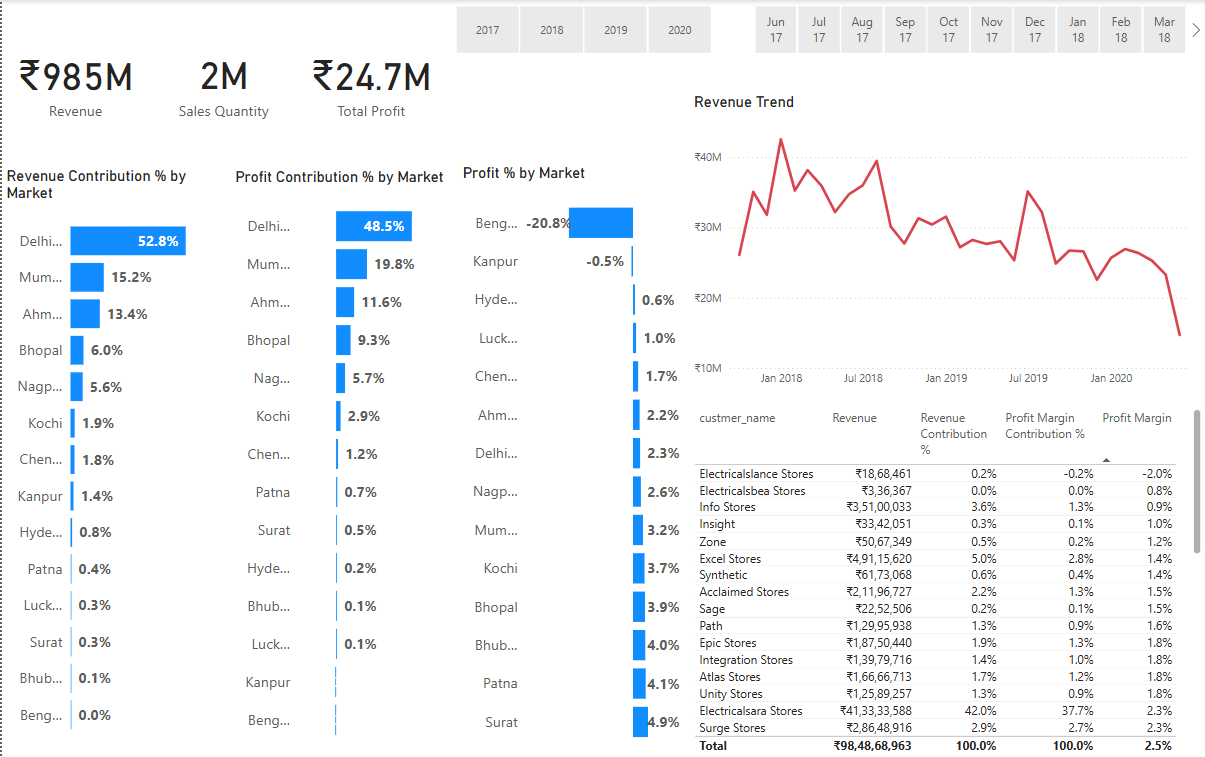

What the dashboard file says about the page in this screenshot:
{"tool":"powerbi","page":{"name":"Profit Analysis","canvas":[1350,850],"ordinal":1},"visuals":[{"type":"card","fields":{"Values":["BaseMeasures (2).Revenue"]},"box":[0,0,165.4,185],"z":0},{"type":"card","fields":{"Values":["BaseMeasures (2).Sales Qty"]},"box":[166.8,0,164,183.6],"z":1000},{"type":"barChart","title":"Profit % by Market","fields":{"Y":["BaseMeasures (2).Profit Margin %"],"Category":["sales markets.markets_name"]},"box":[511.6,183.6,253.7,665.8],"z":2000},{"type":"barChart","title":"Profit Contribution % by Market","fields":{"Y":["BaseMeasures (2).Profit Margin Contribution %"],"Category":["sales markets.markets_name"]},"box":[256.5,187.8,252.3,658.8],"z":3000},{"type":"slicer","fields":{"Values":["sales date.year"]},"box":[483.2,0,335.5,66.5],"z":4000},{"type":"slicer","fields":{"Values":["sales date.cy_date"]},"box":[818.6,0,531.7,66.5],"z":5000},{"type":"tableEx","title":"Top 5 Customers","fields":{"Values":["sales customers.custmer_name","BaseMeasures (2).Revenue","BaseMeasures (2).Revenue Contribution %","BaseMeasures (2).Profit Margin Contribution %","BaseMeasures (2).Profit Margin %"]},"box":[771,454.2,578.9,395.3],"z":6000},{"type":"lineChart","title":"Revenue Trend","fields":{"Y":["BaseMeasures (2).Revenue"],"Category":["sales date.cy_date"]},"box":[771,103.7,578.9,339.2],"z":7000},{"type":"card","fields":{"Values":["BaseMeasures (2).Total Profit Margin"]},"box":[330.8,0,166.8,185],"z":8000},{"type":"barChart","title":"Revenue Contribution % by Market","fields":{"Y":["BaseMeasures (2).Revenue Contribution %"],"Category":["sales markets.markets_name"]},"box":[0,186.4,256.5,653.2],"z":9000}]}

Visuals, with their boxes in screenshot pixels (x1, y1, x2, y2), scaled from the page's 1350x850 canvas onto the 1205x757 screenshot:
card - BaseMeasures (2).Revenue: detection(0, 0, 148, 165)
card - BaseMeasures (2).Sales Qty: detection(149, 0, 295, 164)
"Profit % by Market" barChart: detection(457, 164, 683, 756)
"Profit Contribution % by Market" barChart: detection(229, 167, 454, 754)
slicer - sales date.year: detection(431, 0, 731, 59)
slicer - sales date.cy_date: detection(731, 0, 1204, 59)
"Top 5 Customers" tableEx: detection(688, 405, 1204, 756)
"Revenue Trend" lineChart: detection(688, 92, 1204, 394)
card - BaseMeasures (2).Total Profit Margin: detection(295, 0, 444, 165)
"Revenue Contribution % by Market" barChart: detection(0, 166, 229, 748)
